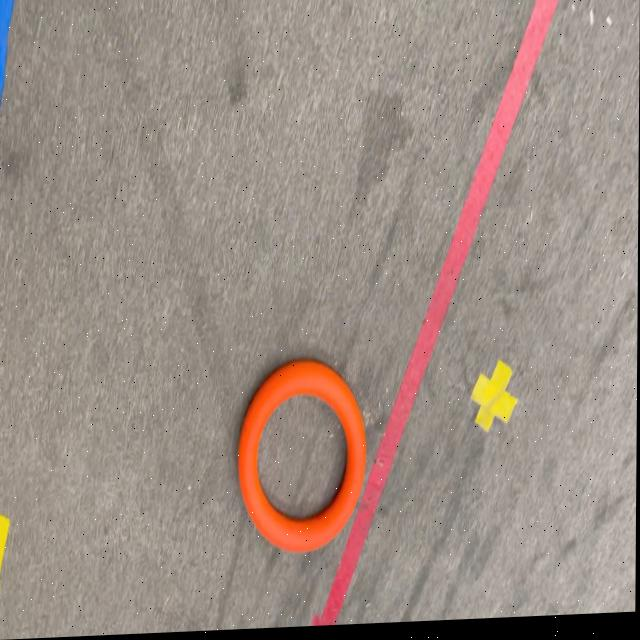note: (239, 362, 368, 558)
